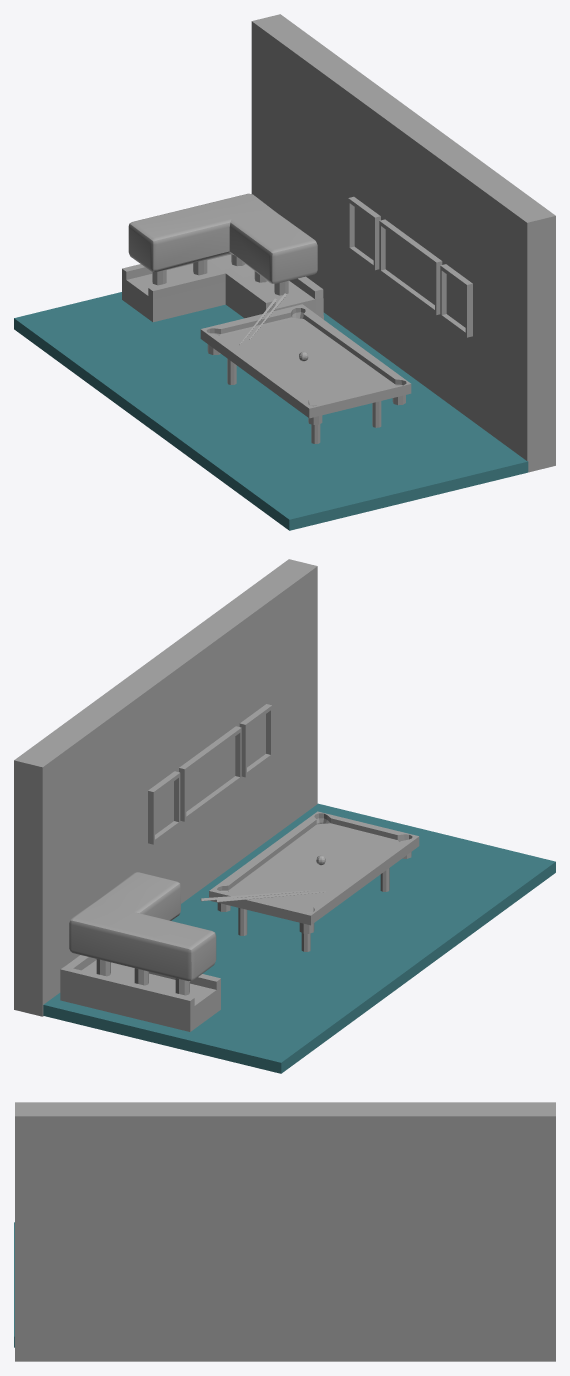
File: Victoria.fbx
3 renders of one model, top to bottom at view 1: azimuth 30°, elevation 25°; view 2: azimuth 150°, elevation 25°; view 3: azimuth 270°, elevation 25°, orthographic.
Visible parts, largest first — view 1: pasted__Pared17, pasted__Suelo5, pasted__Pared18, Arbusto1, pasted__Suelo6, Billar1, Cuadro3, Cuadro5, Cuadro4; view 2: pasted__Pared18, pasted__Pared17, pasted__Suelo6, pasted__Suelo5, Arbusto1, Billar1, Cuadro3, Cuadro4, Cuadro5; view 3: pasted__Pared17, pasted__Pared18.
Boxes of the visible parts, bbox=[...] form: pasted__Pared17: bbox=[389, 115, 555, 472]; pasted__Suelo5: bbox=[152, 361, 528, 530]; pasted__Pared18: bbox=[251, 14, 417, 360]; Arbusto1: bbox=[122, 193, 323, 322]; pasted__Suelo6: bbox=[14, 292, 389, 429]; Billar1: bbox=[200, 293, 411, 443]; Cuadro3: bbox=[379, 219, 442, 314]; Cuadro5: bbox=[440, 264, 472, 337]; Cuadro4: bbox=[348, 196, 380, 270]; pasted__Pared18: bbox=[14, 659, 180, 1016]; pasted__Pared17: bbox=[152, 559, 317, 903]; pasted__Suelo6: bbox=[43, 904, 418, 1073]; pasted__Suelo5: bbox=[181, 803, 555, 972]; Arbusto1: bbox=[60, 872, 220, 1031]; Billar1: bbox=[200, 811, 419, 951]; Cuadro3: bbox=[179, 726, 241, 821]; Cuadro4: bbox=[148, 771, 180, 844]; Cuadro5: bbox=[239, 704, 272, 777]; pasted__Pared17: bbox=[15, 1102, 285, 1361]; pasted__Pared18: bbox=[285, 1102, 555, 1361].
Bounding box in the file's own units: 25.24 × 22.57 × 45.18.
